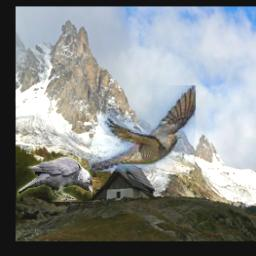Crow: (17, 156, 92, 202)
Cuckoo: (87, 85, 196, 172)
